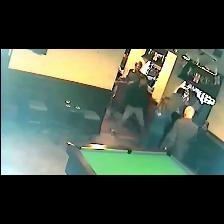person: (161, 107, 198, 161), (143, 97, 170, 148)
